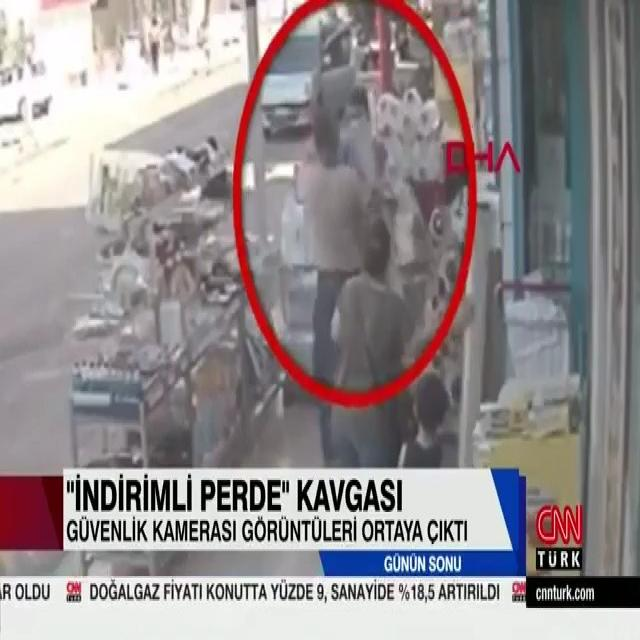fight: (292, 84, 386, 311)
